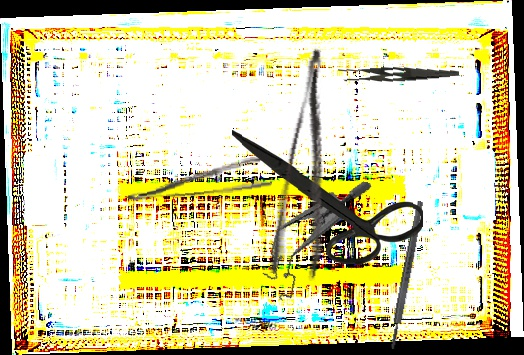Dressing Forceps: (265, 45, 360, 282), (124, 155, 273, 204), (337, 56, 460, 88)
Iris Scissors: (229, 130, 425, 266)
Scalpel Handle: (387, 200, 426, 350)
Speculum: (256, 161, 373, 316)
